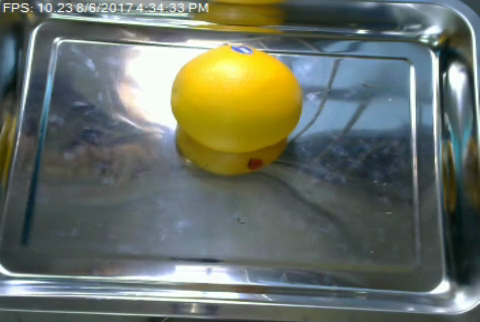Orange: (170, 43, 302, 154)
